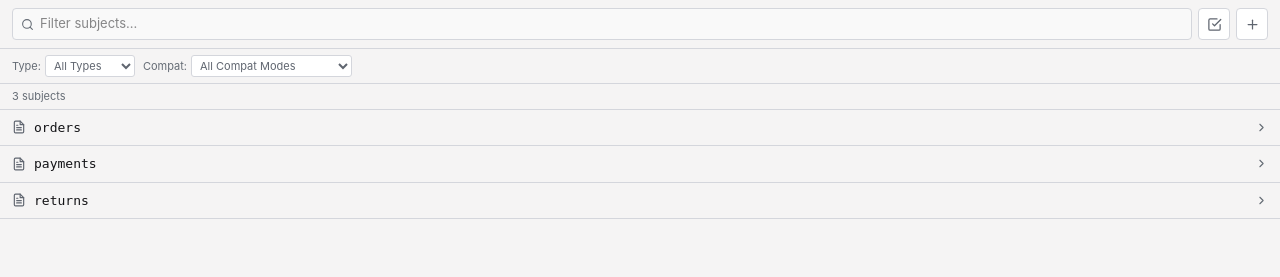
Test: [@schema-list-coverage] bulk mode — enter and exit › Exit bulk mode button clears selection
Click the button named "enter bulk selection mode" at x=1214, y=24, box [1198,8,1230,40]
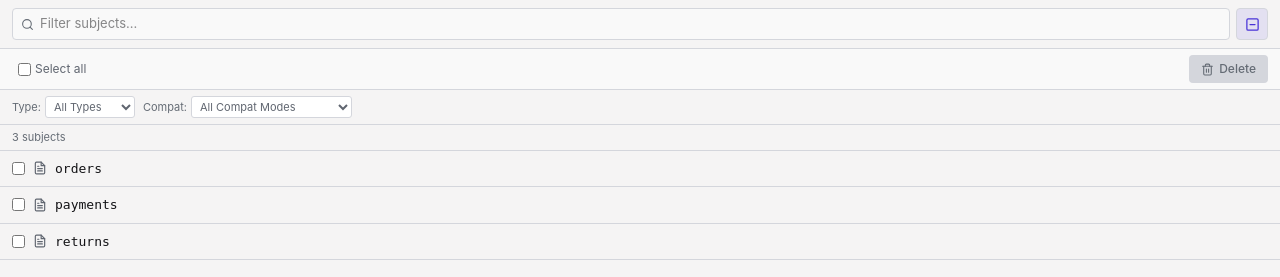
Click the text "orders" at x=78, y=168, box [55,160,102,176]
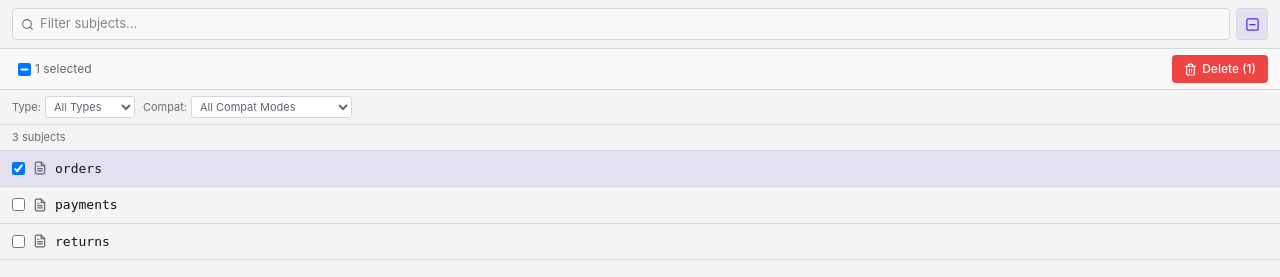
Click the button named "exit bulk selection mode" at x=1252, y=24, box [1236,8,1268,40]
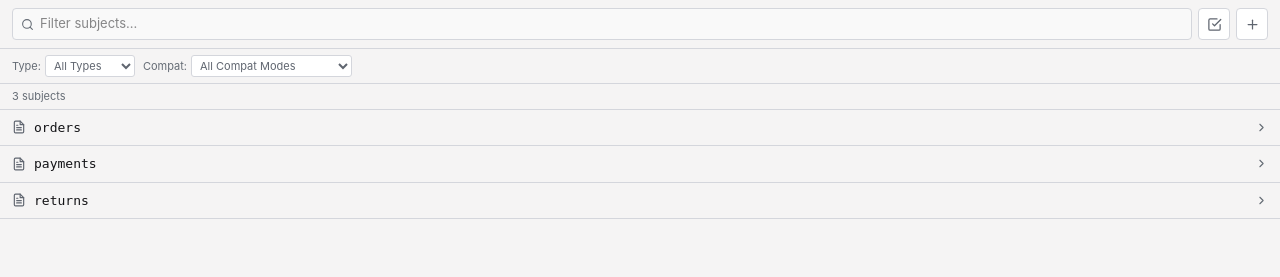
Now the button named "enter bulk selection mode" is shown, box [1198,8,1230,40]
Now the button named "create new schema" is shown, box [1236,8,1268,40]
